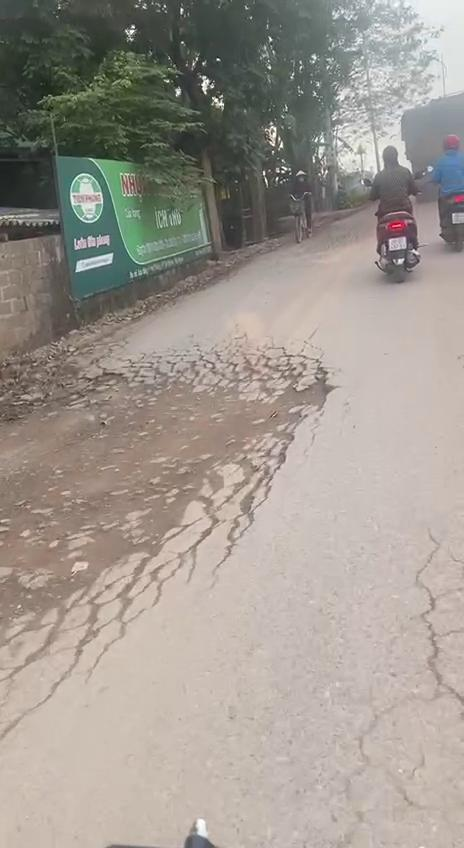pothole: (0, 360, 332, 592)
